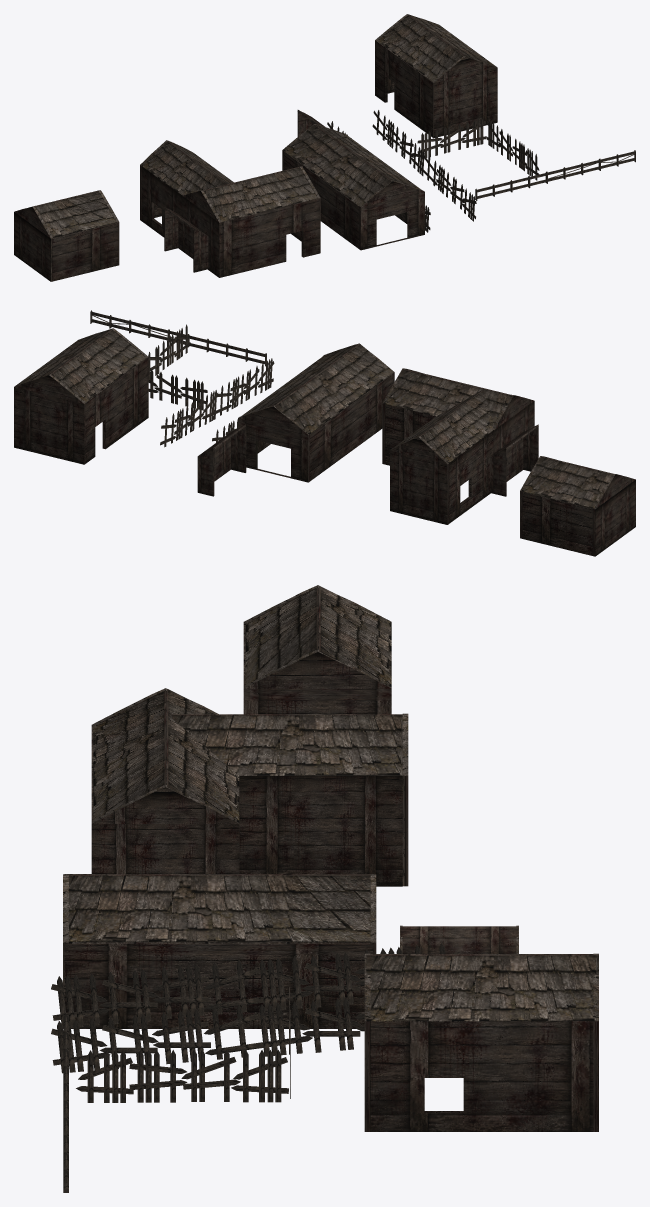
File: Village2.fbx
3 renders of one model, top to bottom at view 1: azimuth 30°, elevation 25°; view 2: azimuth 150°, elevation 25°; view 3: azimuth 270°, elevation 25°, orthographic. The views are drawn at different scales.
Parts seen in each view (by area): view 1: 家.012, 家.009, 小屋, 小屋.010, 小屋.005, 柵.039, 柵.041; view 2: 家.012, 家.009, 小屋, 小屋.010, 小屋.001, 小屋.005, 柵.041, 柵.040; view 3: 家.012, 家.009, 小屋, 小屋.010, 小屋.001, 柵.042, 柵.044, 柵.045, 柵.036, 柵.031, 柵.030, 柵.038 (+9 smaller).
Part boxes in pixels (x1,y1,x2,y2): 家.012: (140, 140, 320, 277); 家.009: (375, 14, 497, 138); 小屋: (282, 124, 424, 250); 小屋.010: (14, 190, 119, 281); 小屋.005: (164, 207, 208, 272); 柵.039: (461, 118, 486, 147); 柵.041: (417, 129, 442, 157); 家.012: (382, 368, 534, 524); 家.009: (14, 328, 148, 464); 小屋: (238, 343, 394, 482); 小屋.010: (520, 456, 635, 556); 小屋.001: (197, 424, 246, 496); 小屋.005: (490, 424, 538, 496); 柵.041: (180, 377, 207, 410); 柵.040: (154, 372, 182, 404); 家.012: (91, 688, 408, 886); 家.009: (364, 953, 598, 1131); 小屋: (63, 874, 376, 1028); 小屋.010: (243, 585, 391, 714); 小屋.001: (400, 925, 518, 953); 柵.042: (129, 1050, 187, 1102); 柵.044: (231, 1050, 288, 1102); 柵.045: (76, 1050, 133, 1102); 柵.036: (152, 963, 210, 1018); 柵.031: (254, 956, 312, 1011); 柵.030: (254, 1001, 312, 1056); 柵.038: (51, 973, 109, 1028).
Bounding box in the file's own units: 2152 × 359 × 945.
37 materials, 37 textured.
